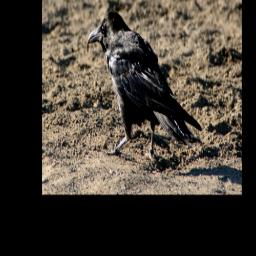Crow: (86, 8, 203, 168)
